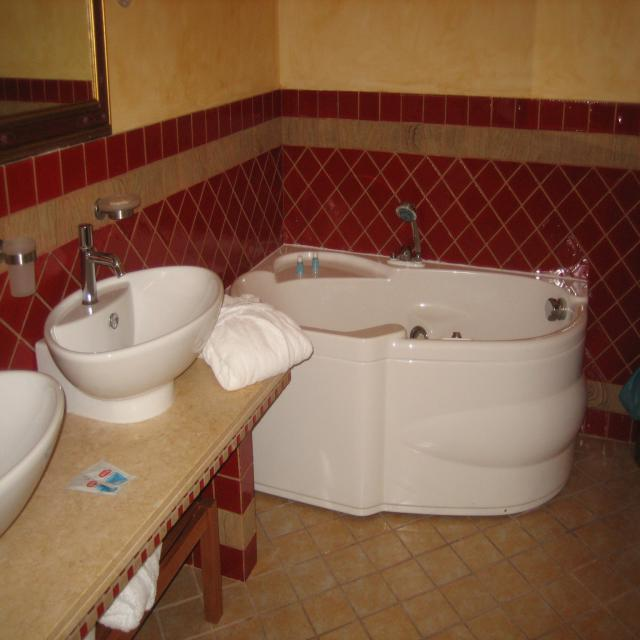bath crop: (229, 239, 587, 518)
countertop: (1, 360, 292, 640)
faucet handle: (80, 222, 121, 305)
floor -X: (9, 432, 637, 640)
glass ceiling: (8, 235, 39, 300)
mirror crop: (0, 0, 112, 164)
soap bottle: (111, 196, 125, 206)
towel basket: (198, 288, 311, 395)
wall clock: (1, 3, 283, 639), (276, 3, 635, 442)
washbasin crop: (35, 267, 220, 422)
washbasin occluded: (1, 370, 64, 535)
